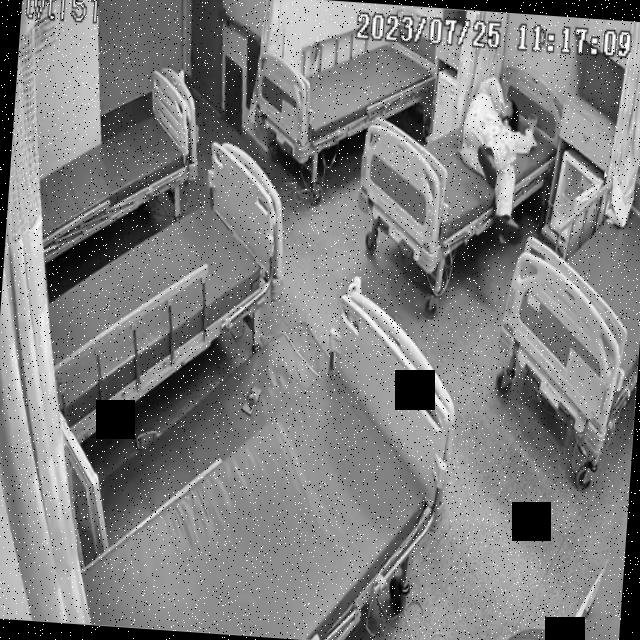bed: (76, 283, 453, 640), (34, 136, 287, 444), (495, 154, 640, 456), (354, 64, 562, 258), (32, 59, 204, 267), (255, 12, 438, 170)
danger: (452, 70, 539, 244)
patient: (452, 70, 540, 244)
